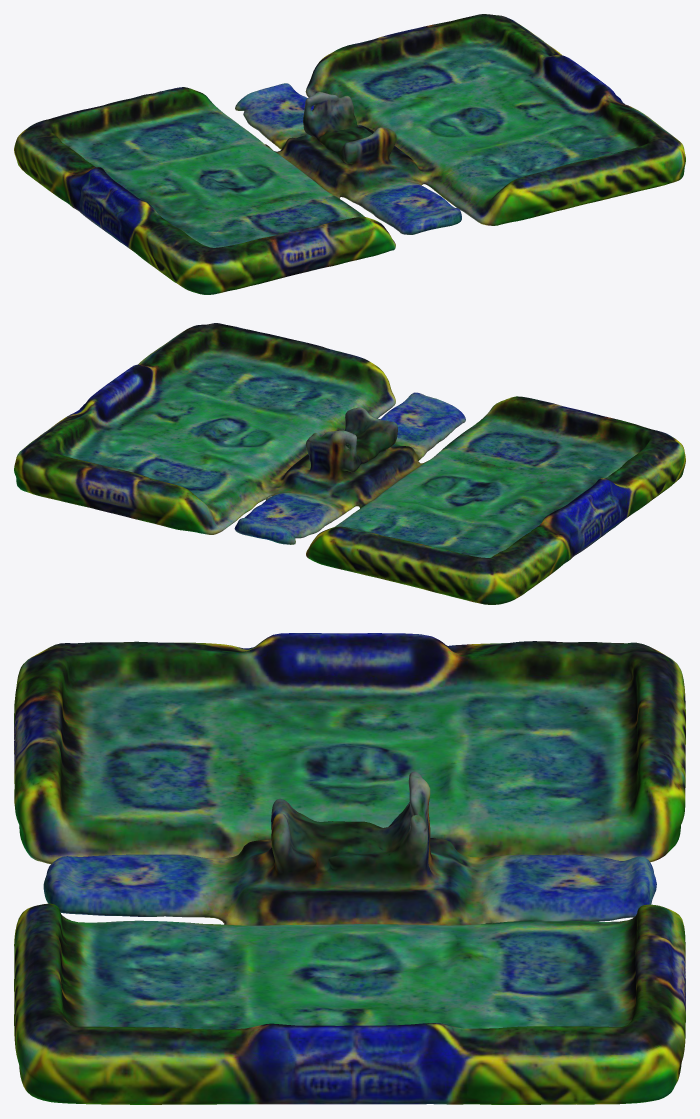
File: ring.glb
3 views of the same model, one above another, from view 1: azimuth 30°, elevation 25°; view 2: azimuth 150°, elevation 25°; view 3: azimuth 270°, elevation 25° (orthographic). The views are drawn at different scales.
Visible parts, largest first — view 1: geometry_0; view 2: geometry_0; view 3: geometry_0.
Part boxes in pixels (bbox=[...]): geometry_0: bbox=[14, 14, 685, 294]; geometry_0: bbox=[14, 323, 685, 604]; geometry_0: bbox=[14, 633, 685, 1104].
Size of the model in its own units: 0.5231 by 0.0708 by 0.3541.
Materials: 1 (1 with a texture image).
